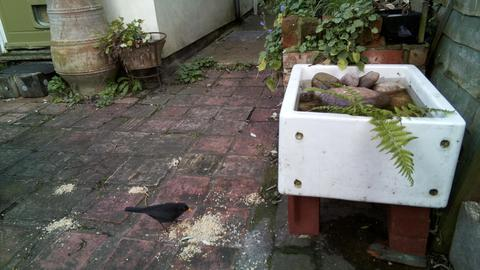blackbird: (124, 202, 194, 234)
